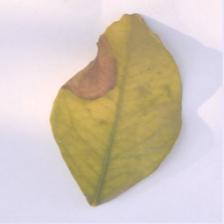black spot: (58, 13, 118, 107)
